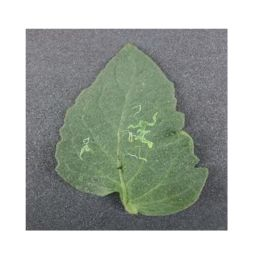liriomyza: (124, 103, 158, 150), (77, 136, 92, 160), (127, 152, 149, 164)
